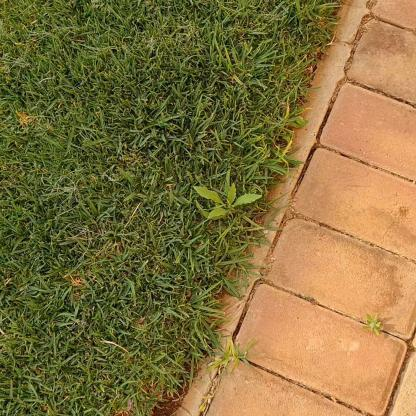Weeds: (193, 183, 263, 221)
